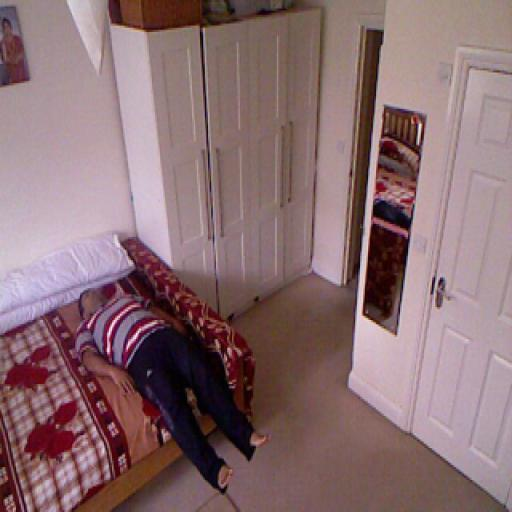Fall: (66, 266, 273, 504)
